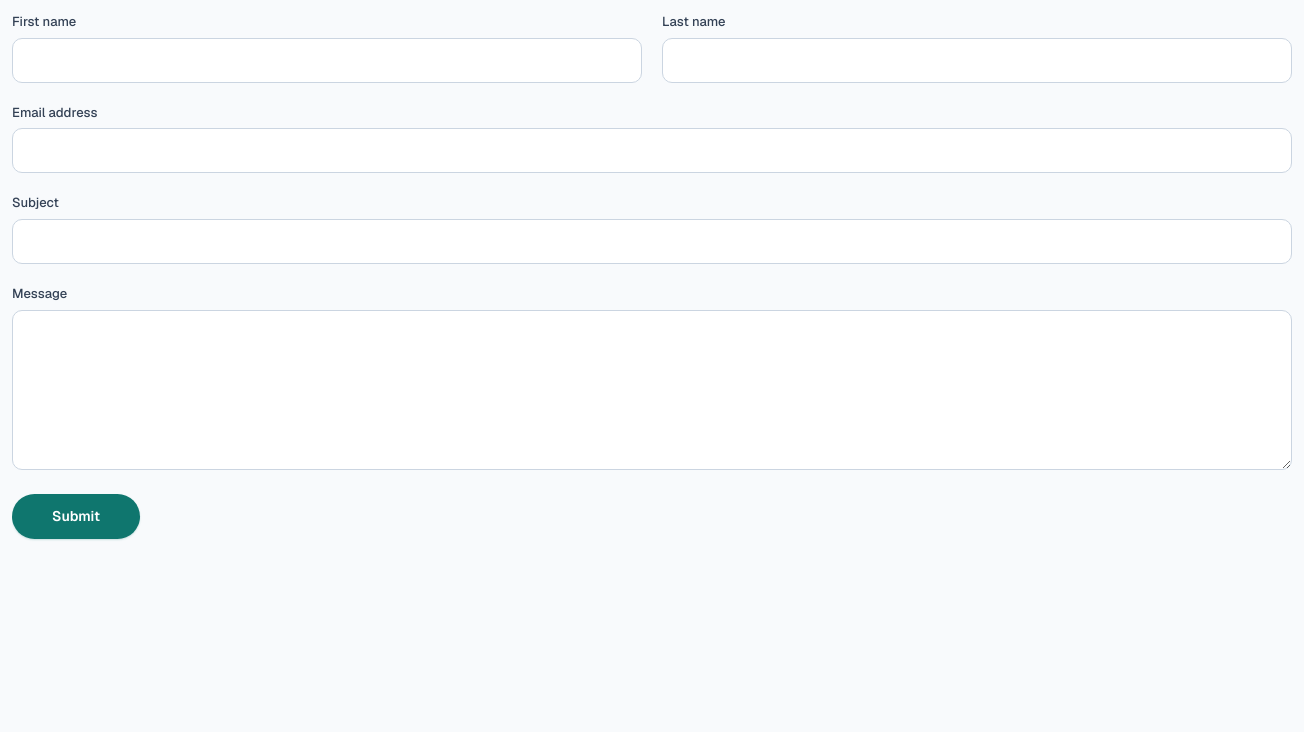
Test: ContactForm › shows success when the API accepts the message
Type "Jane" into the field labelled "First name". click: (327, 60)
box: [12,38,642,83]
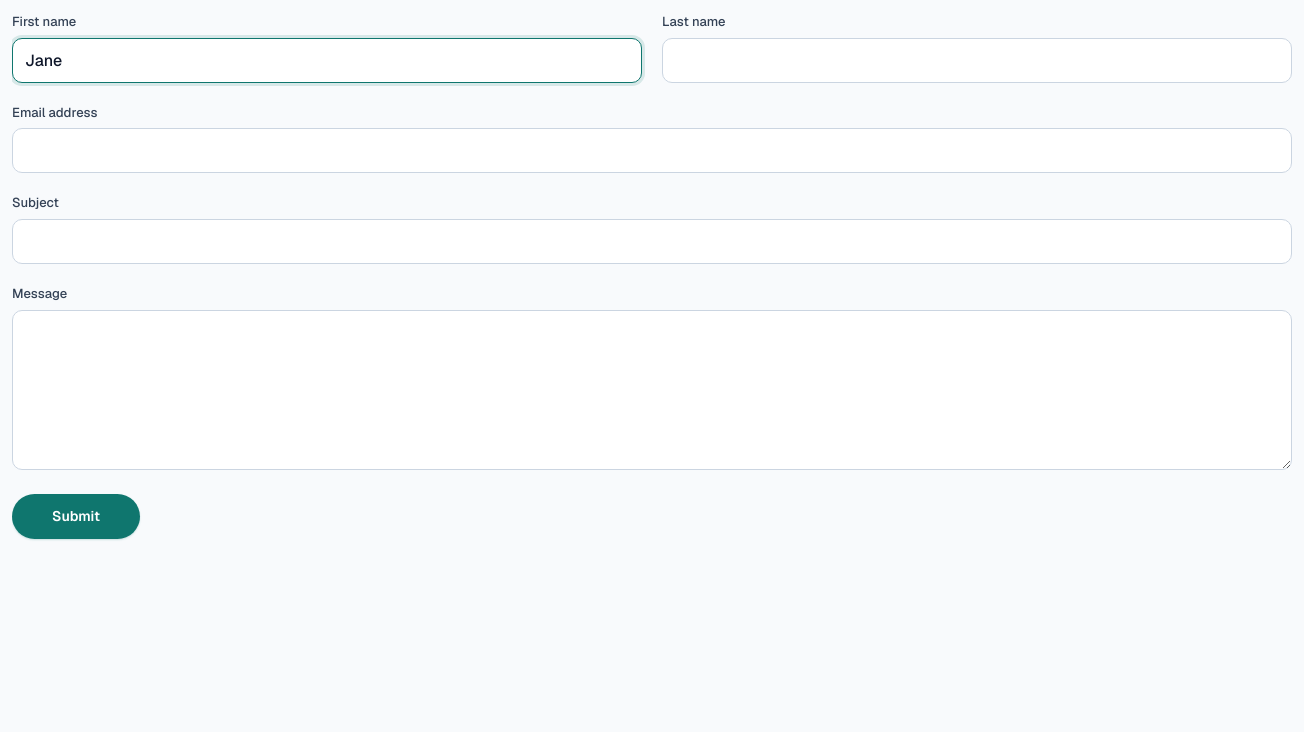
Type "Doe" into the field labelled "Last name". click: (977, 60)
box: [662,38,1292,83]
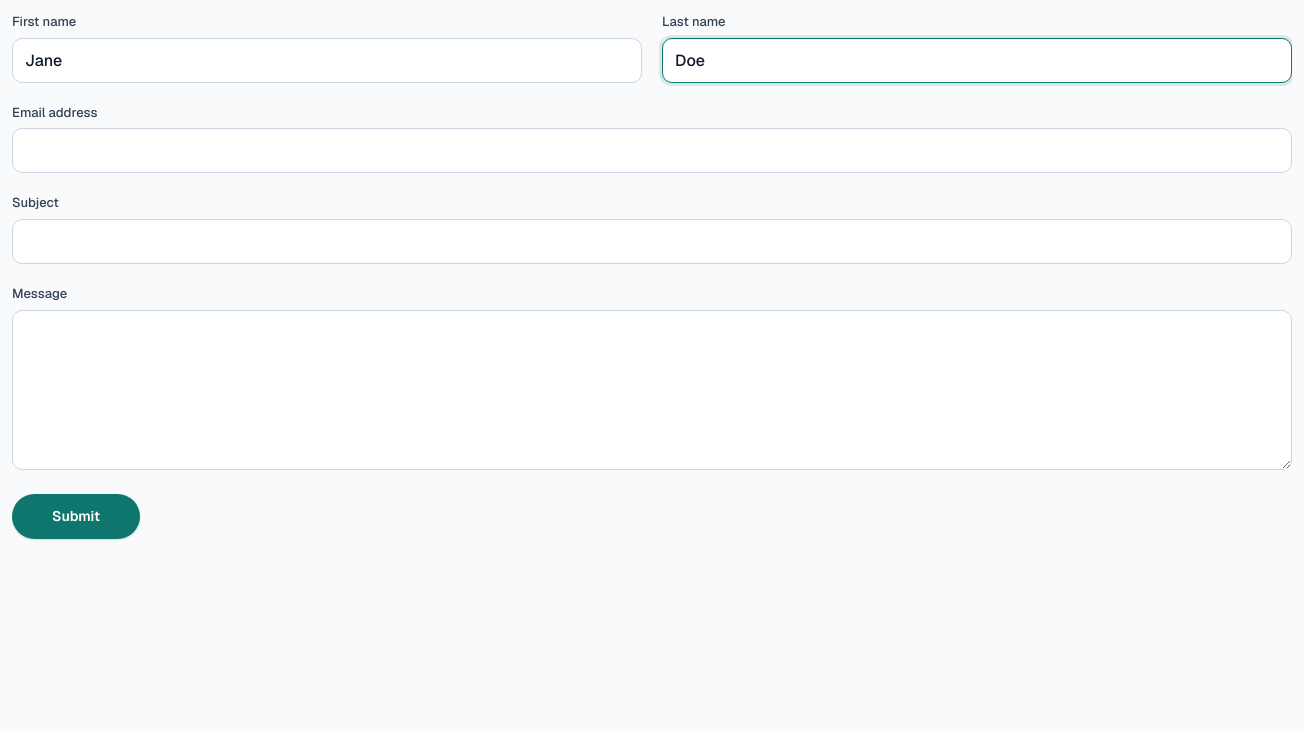
Type "jane@example.com" into the field labelled "Email address". click: (652, 151)
box: [12,128,1292,173]
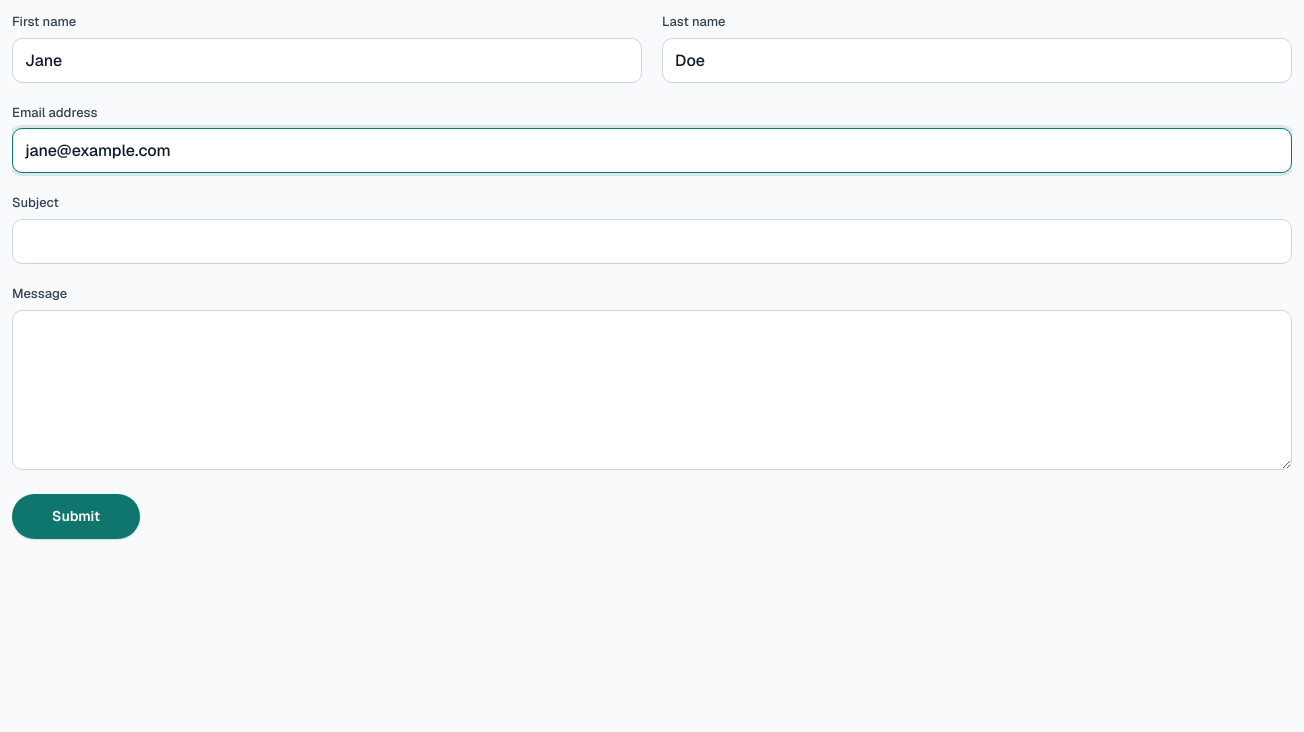
Type "Hello" into the field labelled "Subject". click: (652, 242)
box: [12,219,1292,264]
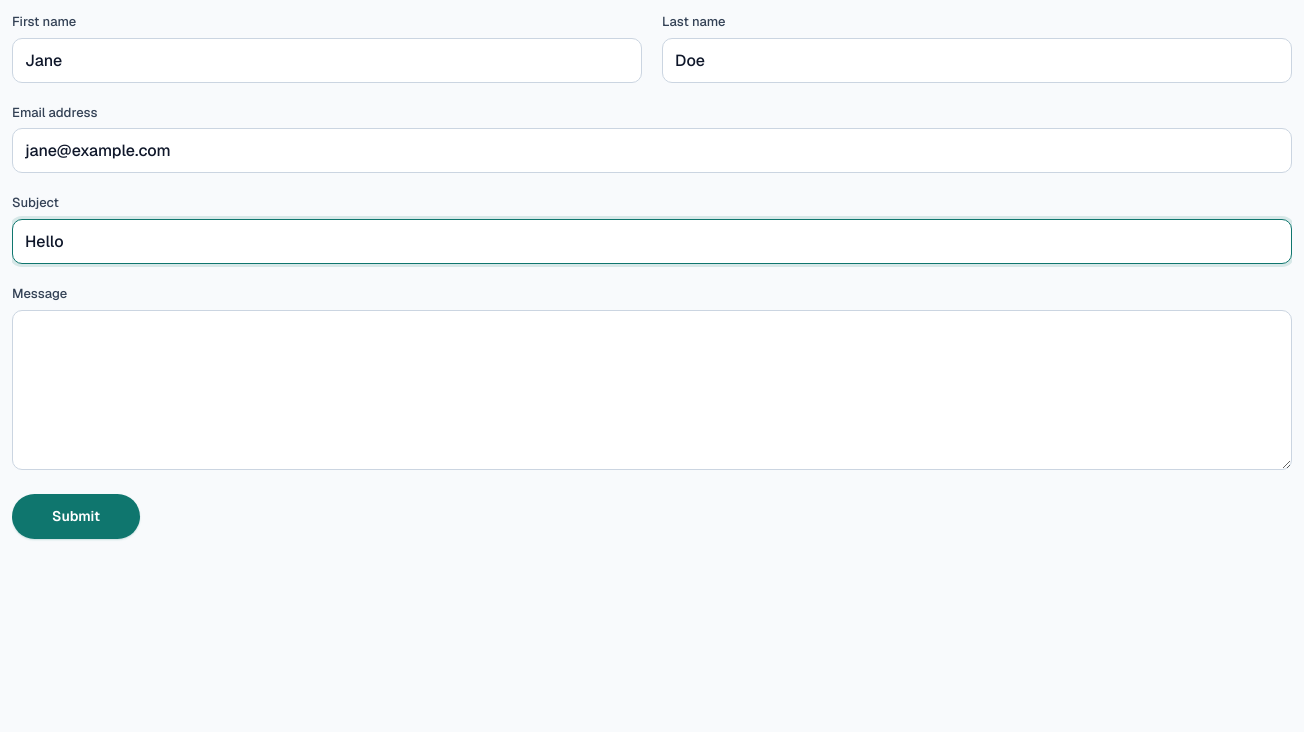
Type "Test message" into the text box labelled "Message". click: (652, 390)
box: [12,310,1292,470]
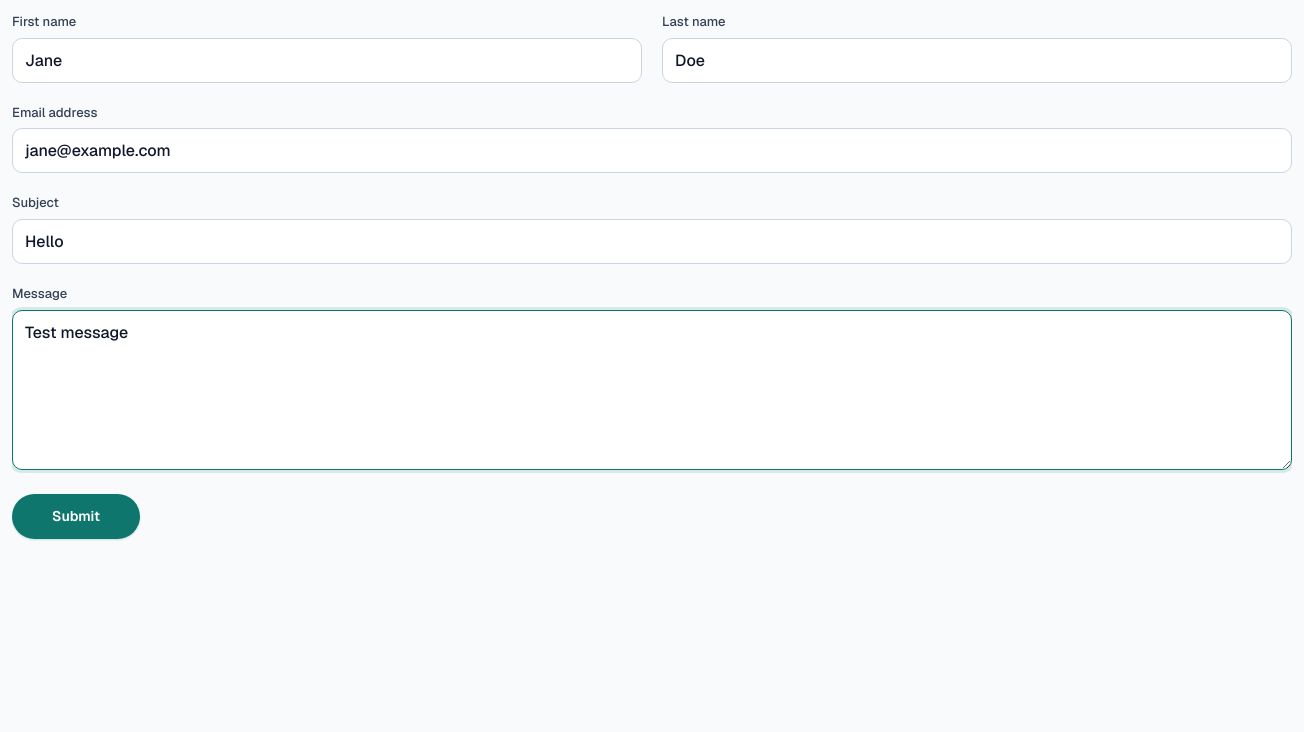
Click the button "Submit". click: click(76, 516)
box: [12,494,140,539]
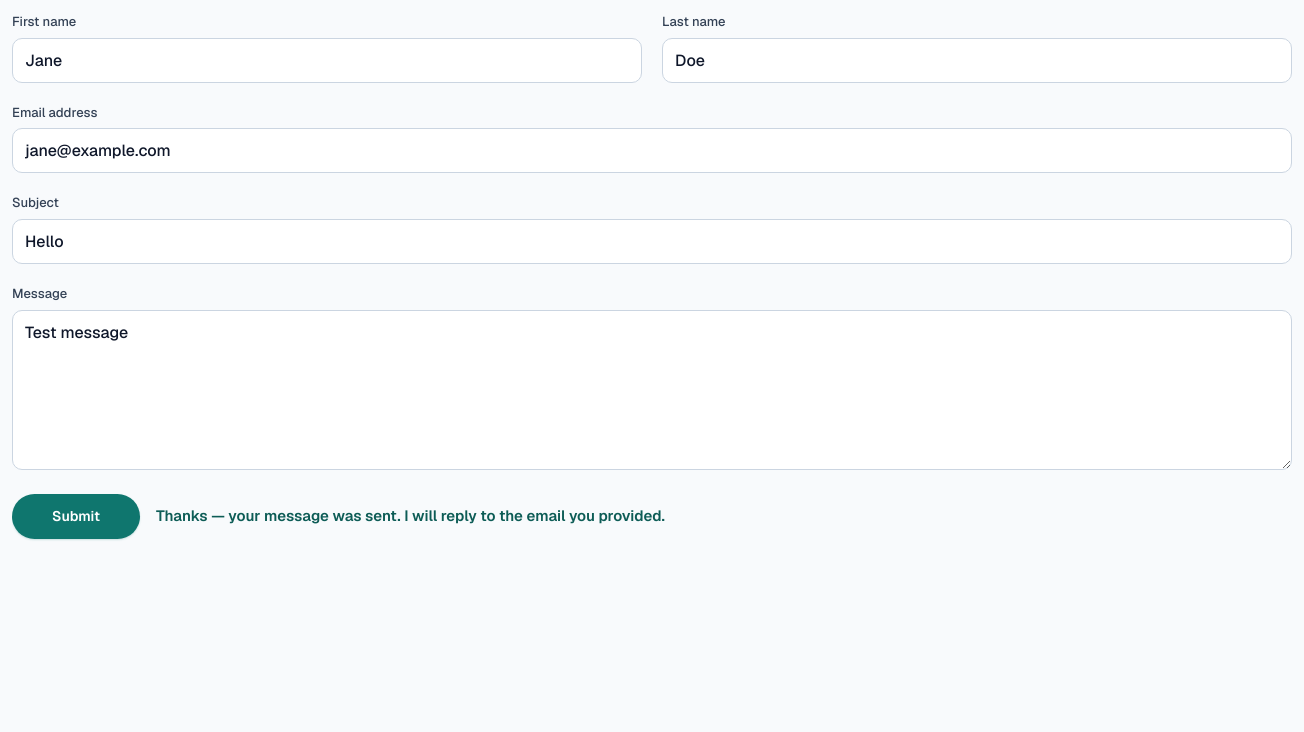
Expected: the text "Thanks — your message was sent" is shown, [156,506,665,525]
